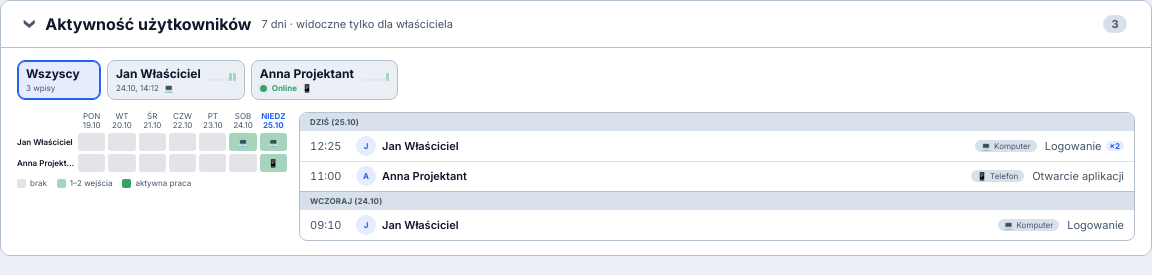
Test: OwnerUserActivityPanel › filters by an employee chip, switches to the hourly timeline and resets on a second click
This screenshot has width=1152, height=275.
Click the button with aria-label "Filtruj aktywność: Anna Projektant" at [324, 80], box x1=251 y1=60 x2=398 y2=100
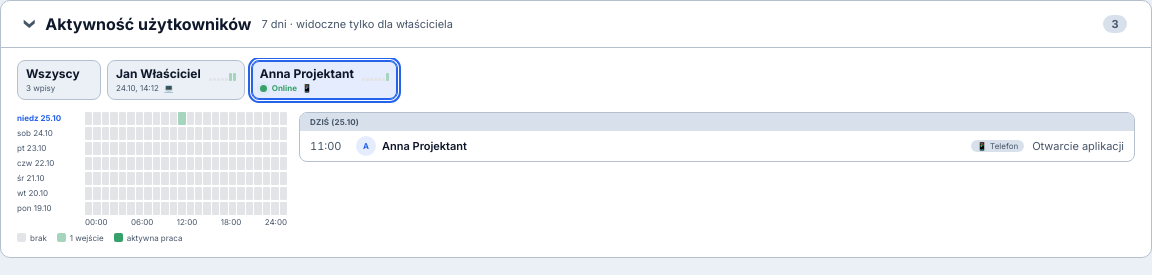
Check: the text "Anna Projektant" in the row of "11:00" is shown, box x1=382 y1=139 x2=467 y2=153
Check: the number of rows is 7
Check: the cell named "25.10, 11:00: 11:00 📱" is shown, box x1=178 y1=112 x2=186 y2=125
Click the button with aria-label "Filtruj aktywność: Anna Projektant" at [324, 80], box x1=251 y1=60 x2=398 y2=100
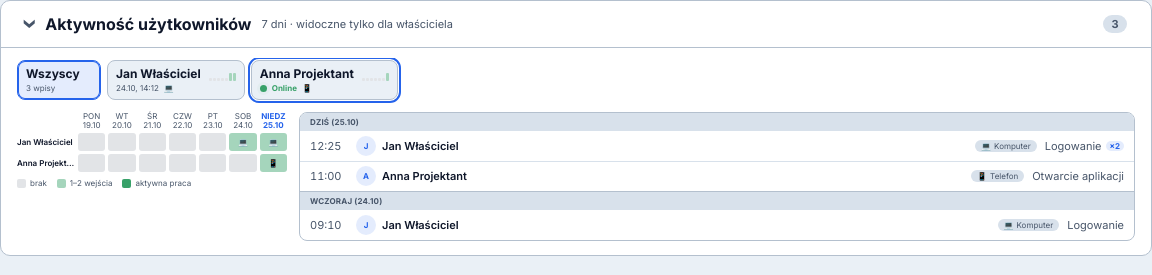
Check: the table named "Aktywność z ostatnich 7 dni" is shown, box x1=17 y1=112 x2=287 y2=172
Click the button with aria-label "Filtruj aktywność: Anna Projektant" at [324, 80], box x1=251 y1=60 x2=398 y2=100
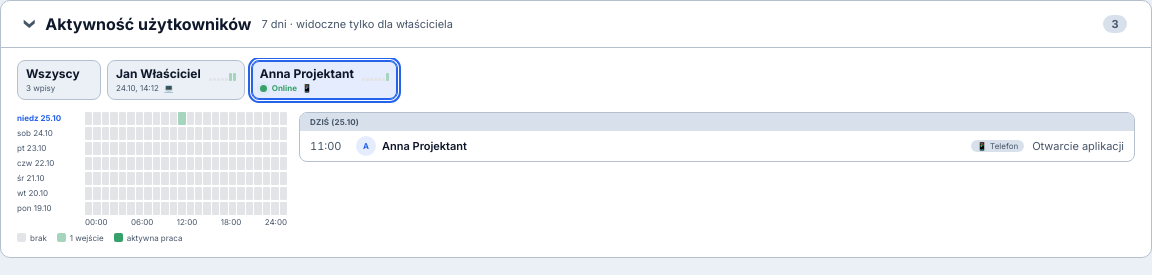
Click the button "Wszyscy 3 wpisy" at [59, 80], box x1=17 y1=60 x2=101 y2=100
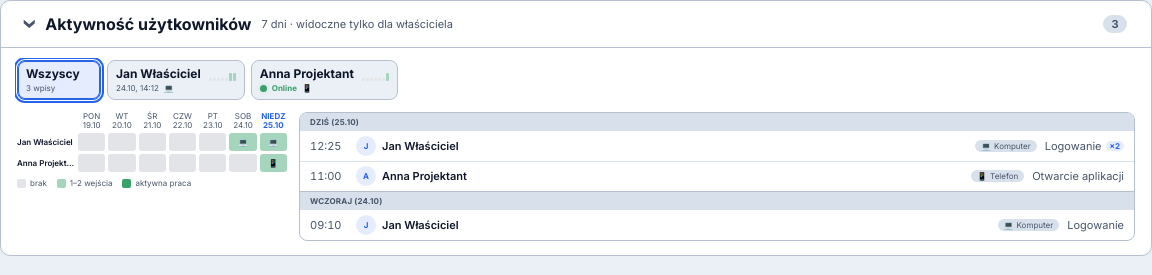
Check: the text "Jan Właściciel" is shown 2 times, box x1=382 y1=139 x2=459 y2=153; x1=382 y1=218 x2=459 y2=232
